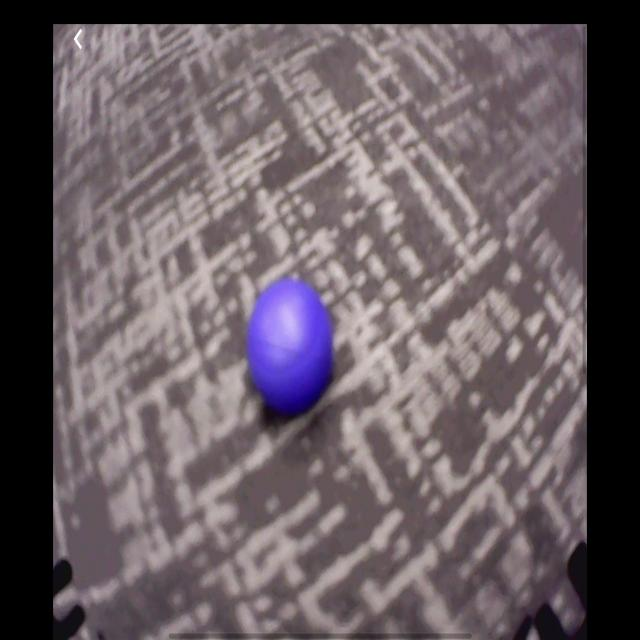ball: (249, 278, 333, 417)
